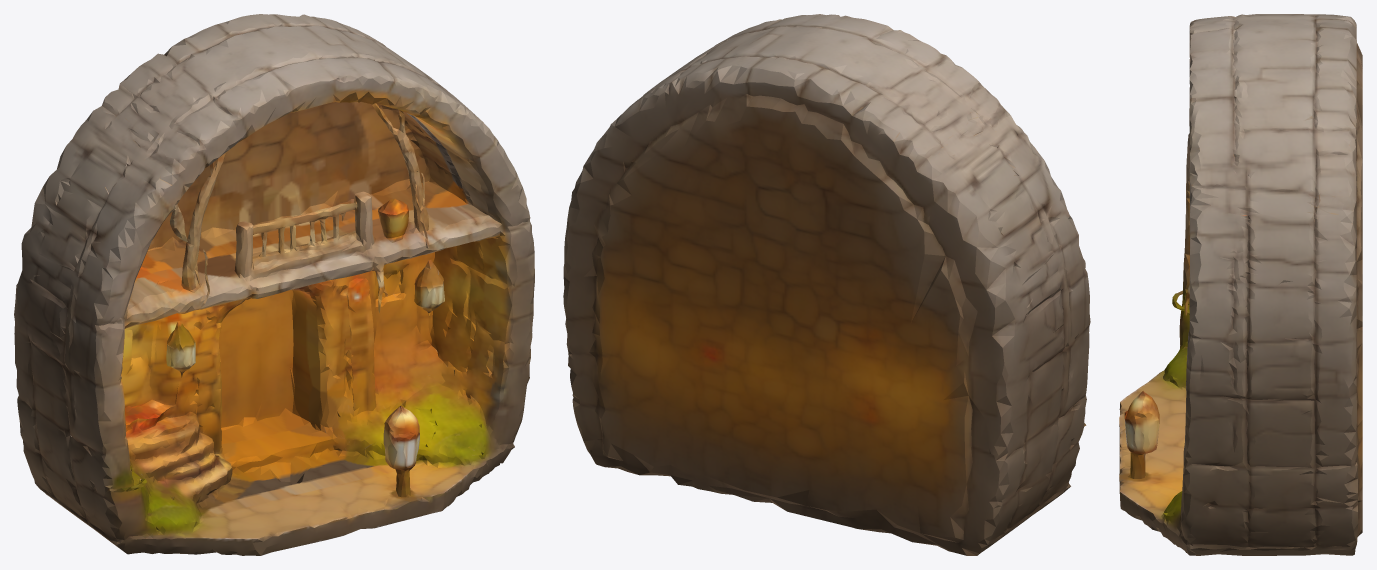
3 views of the same model, side by side, from view 1: azimuth 30°, elevation 25°; view 2: azimuth 150°, elevation 25°; view 3: azimuth 270°, elevation 25° (orthographic).
Parts seen in each view (by area): view 1: 028; view 2: 028; view 3: 028.
Part boxes in pixels (bbox=[...]): 028: bbox=[14, 14, 534, 555]; 028: bbox=[563, 14, 1090, 555]; 028: bbox=[1119, 14, 1362, 555].
Size of the model in its own units: 1.9 by 1.74 by 0.8973.
1 material, 1 textured.
